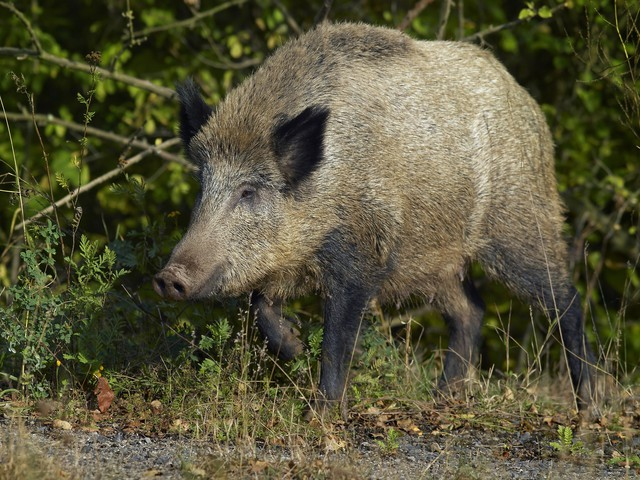Pig: (154, 19, 607, 431)
